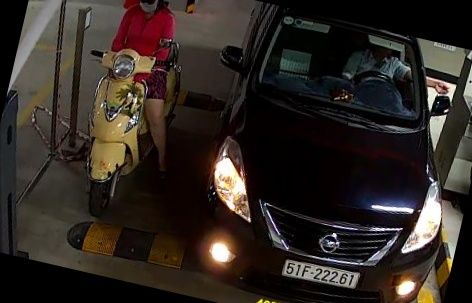plate: (280, 248, 365, 296)
